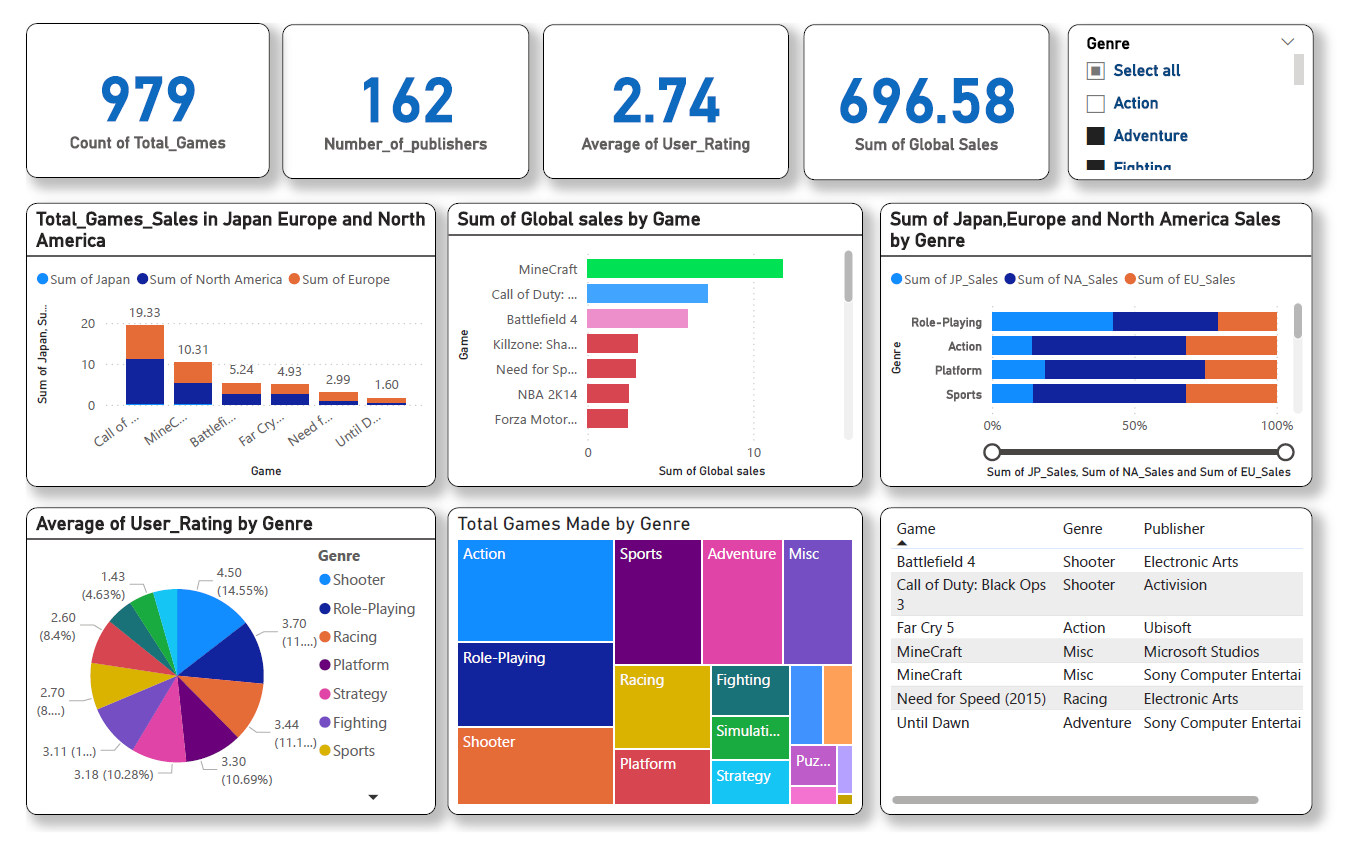

The page's visual inventory and layout, read from the dashboard file:
{"tool":"powerbi","page":{"name":"Page 1","canvas":[1280,720],"ordinal":0},"visuals":[{"type":"columnChart","title":"Total_Games_Sales in Japan Europe and North America","fields":{"Y":["Sum(Xbox_Ps4.Japan)","Sum(Xbox_Ps4.North America)","Sum(Xbox_Ps4.Europe)"],"Category":["Xbox_Ps4.Game"]},"box":[0,160,365,252.5],"z":0},{"type":"card","fields":{"Values":["CountNonNull(No_of_publisher.No_of_publishers)"]},"box":[228.3,0.8,219.2,138.3],"z":1000},{"type":"card","fields":{"Values":["Avg(Rating.User_Rating)"]},"box":[460,0.8,219.2,138.3],"z":2000},{"type":"card","fields":{"Values":["Sum(Xbox_Ps4.Global)"]},"box":[691.7,0.8,219.2,139.2],"z":3000},{"type":"pieChart","fields":{"Category":["Rating.Genre"],"Y":["Avg(Rating.User_Rating)"]},"box":[0,431.2,365,273.8],"z":4000},{"type":"hundredPercentStackedBarChart","title":"Sum of Japan,Europe and North America Sales by Genre","fields":{"Y":["Sum(Games_Sales_.JP_Sales)","Sum(Games_Sales_.NA_Sales)","Sum(Games_Sales_.EU_Sales)"],"Category":["Games_Sales_.Genre"]},"box":[760,160,385,252.5],"z":5000},{"type":"slicer","fields":{"Values":["Rating.Genre"]},"box":[926.7,0.8,219.2,139.2],"z":6000},{"type":"barChart","fields":{"Category":["Xbox_Ps4.Game"],"Y":["Sum(Xbox_Ps4.Global)"]},"box":[375,160,370,252.5],"z":7000},{"type":"tableEx","fields":{"Values":["Xbox_Ps4.Game","Xbox_Ps4.Genre","Xbox_Ps4.Publisher"]},"box":[760,431.2,385,273.8],"z":8000},{"type":"treemap","title":"Total Games Made by Genre","fields":{"Group":["Xbox_Ps4.Genre"],"Values":["CountNonNull(Xbox_Ps4.Game)"]},"box":[375,431.2,370,273.8],"z":9000},{"type":"card","fields":{"Values":["CountNonNull(Total_games.Total_Games)"]},"box":[0,0,216.7,138.3],"z":9001}]}

Visuals, with their boxes on the page's 1280x720 design canvas (x1, y1, x2, y2). These are canvas units, not pixel positions in the 1352x841 screenshot, which may show the page scaled, cropped or inside an application window:
"Total_Games_Sales in Japan Europe and North America" columnChart: <box>0,160,365,412</box>
card - CountNonNull(No_of_publisher.No_of_publishers): <box>228,1,448,139</box>
card - Avg(Rating.User_Rating): <box>460,1,679,139</box>
card - Sum(Xbox_Ps4.Global): <box>692,1,911,140</box>
pieChart - Rating.Genre x Avg(Rating.User_Rating): <box>0,431,365,705</box>
"Sum of Japan,Europe and North America Sales by Genre" hundredPercentStackedBarChart: <box>760,160,1145,412</box>
slicer - Rating.Genre: <box>927,1,1146,140</box>
barChart - Xbox_Ps4.Game x Sum(Xbox_Ps4.Global): <box>375,160,745,412</box>
tableEx - Xbox_Ps4.Game x Xbox_Ps4.Genre: <box>760,431,1145,705</box>
"Total Games Made by Genre" treemap: <box>375,431,745,705</box>
card - CountNonNull(Total_games.Total_Games): <box>0,0,217,138</box>
